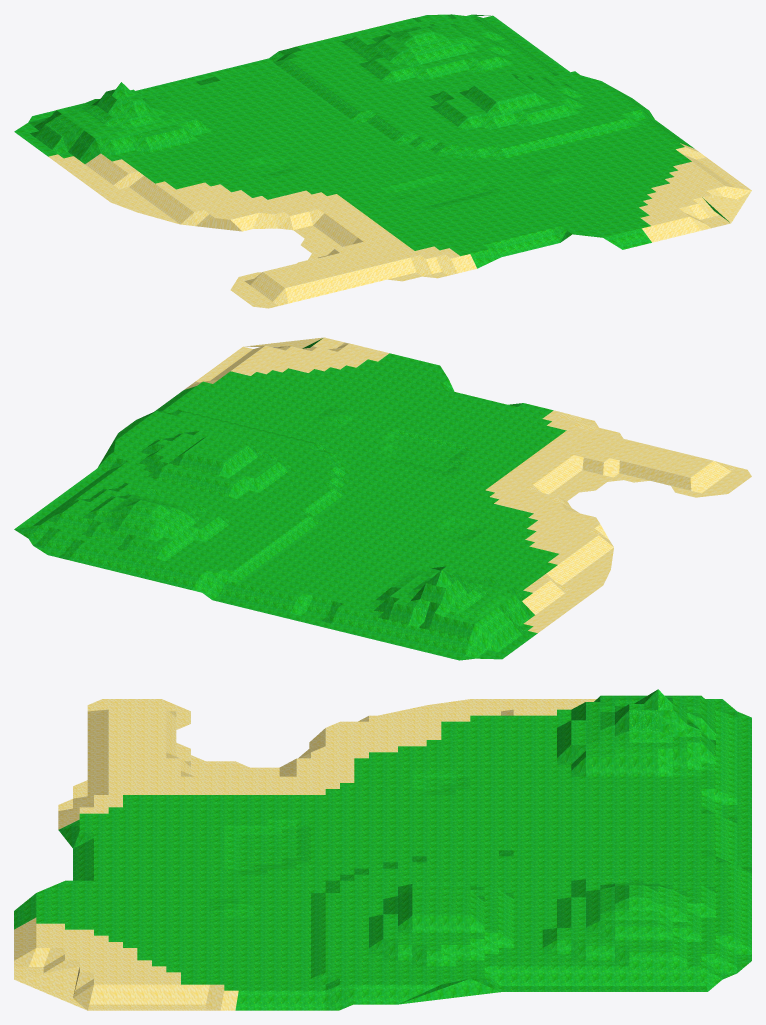
The model's file is Level.fbx.
3 views of the same model, one above another, from view 1: azimuth 30°, elevation 25°; view 2: azimuth 150°, elevation 25°; view 3: azimuth 270°, elevation 25° (orthographic). The views are drawn at different scales.
Parts seen in each view (by area): view 1: Grid; view 2: Grid; view 3: Grid.
Part boxes in pixels (<box>): Grid: <box>14,14,751,308</box>; Grid: <box>14,337,751,660</box>; Grid: <box>14,689,751,1010</box>.
Bounding box in the file's own units: 80000 × 7416 × 80000.
Materials: 2 (2 with a texture image).
